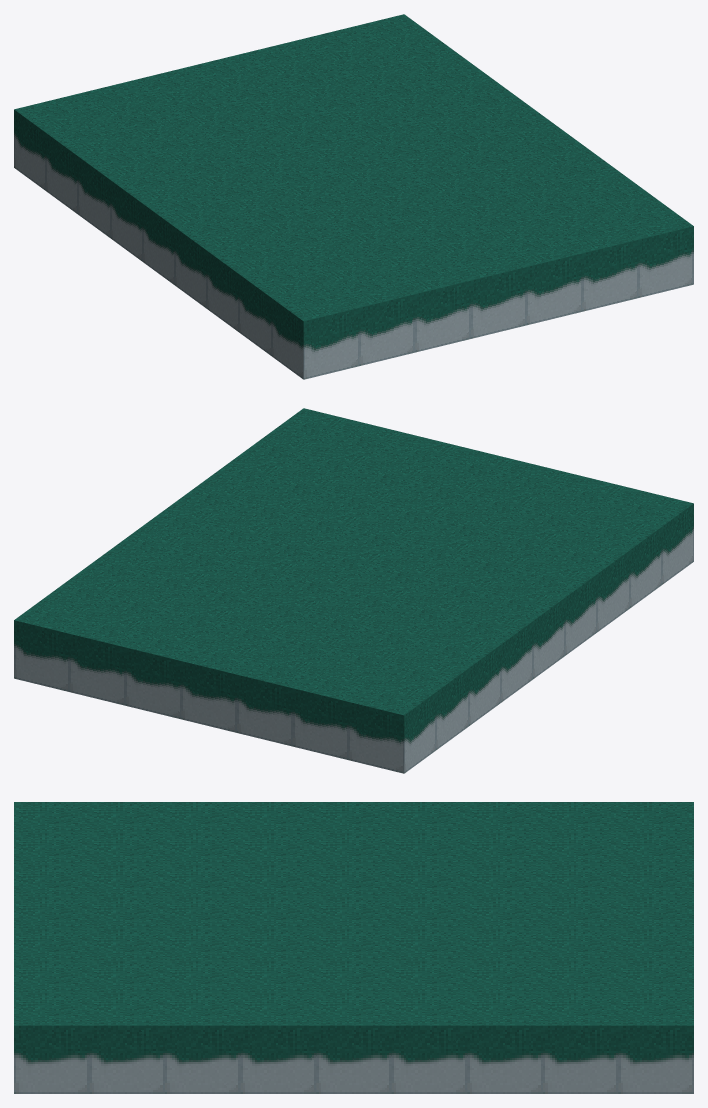
Rendered from w1-LargePlatform.glb.
The picture shows the model from 3 angles, top to bottom: view 1: azimuth 30°, elevation 25°; view 2: azimuth 150°, elevation 25°; view 3: azimuth 270°, elevation 25°; orthographic projection. The views are drawn at different scales.
Visible parts, largest first — view 1: w1-LargePlatform1; view 2: w1-LargePlatform1; view 3: w1-LargePlatform1.
Boxes of the visible parts, <box> form: w1-LargePlatform1: <box>14,14,693,379</box>; w1-LargePlatform1: <box>14,408,693,773</box>; w1-LargePlatform1: <box>14,802,693,1093</box>.
Size of what is drawn, in the model's own units: 14 by 2 by 18.
1 material, 1 textured.
